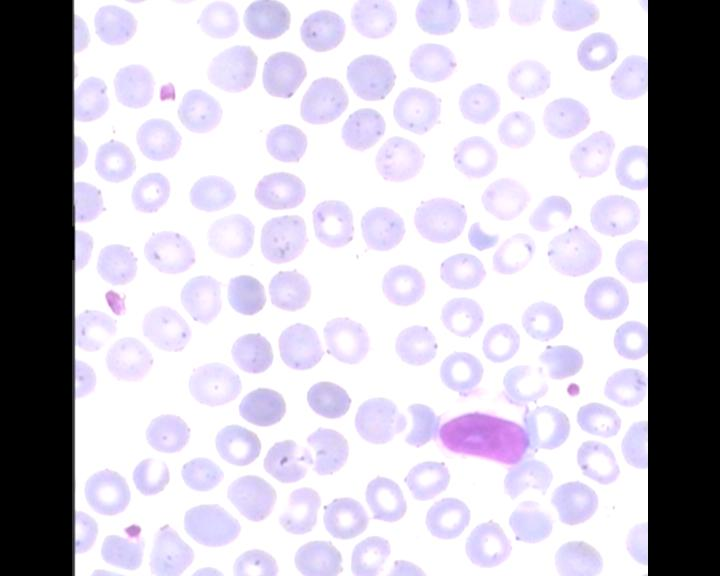mono: (431, 382, 542, 469)
